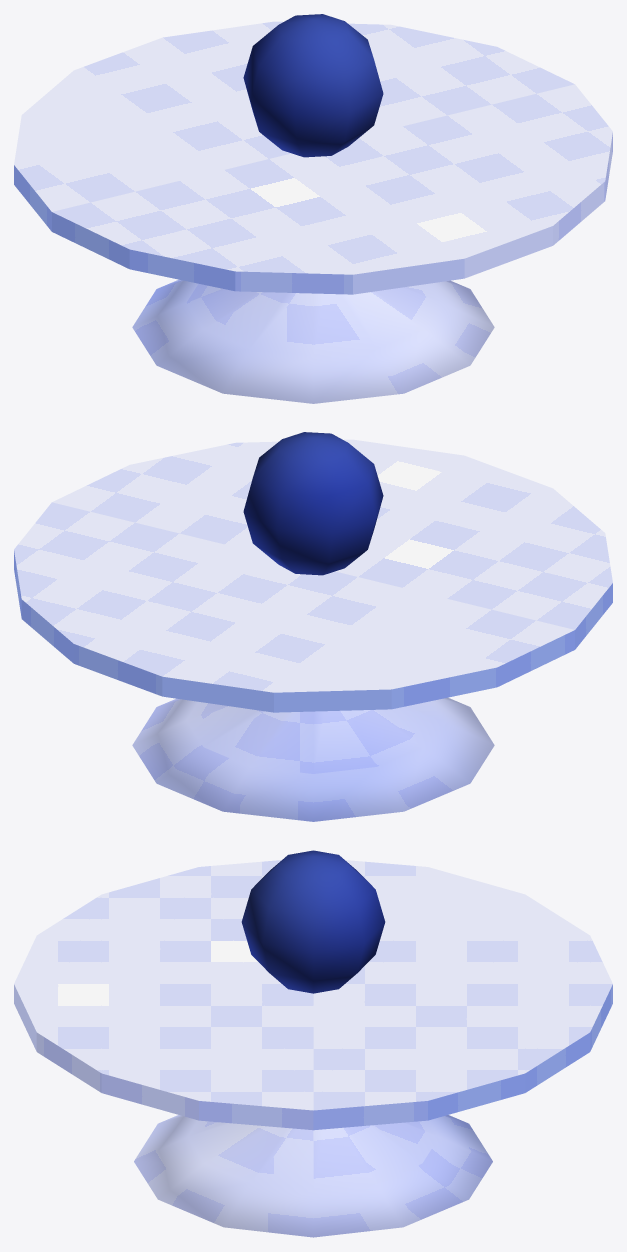
File: table_low.glb
3 views of the same model, one above another, from view 1: azimuth 30°, elevation 25°; view 2: azimuth 150°, elevation 25°; view 3: azimuth 270°, elevation 25° (orthographic).
Parts seen in each view (by area): view 1: kit_table_top, kit_table_base, kit_ornament; view 2: kit_table_top, kit_table_base, kit_ornament; view 3: kit_table_top, kit_table_base, kit_ornament.
Boxes of the visible parts, box(x1,y1,x2,y2) form: kit_table_top: box(14, 21, 612, 294); kit_table_base: box(132, 279, 494, 403); kit_ornament: box(243, 14, 383, 157); kit_table_top: box(14, 439, 612, 712); kit_table_base: box(132, 697, 494, 821); kit_ornament: box(243, 432, 383, 575); kit_table_top: box(14, 860, 612, 1130); kit_table_base: box(134, 1115, 492, 1237); kit_ornament: box(241, 850, 385, 993).
Bounding box in the file's own units: 1.1 × 0.6174 × 1.1.
Materials: 2 (1 with a texture image).
